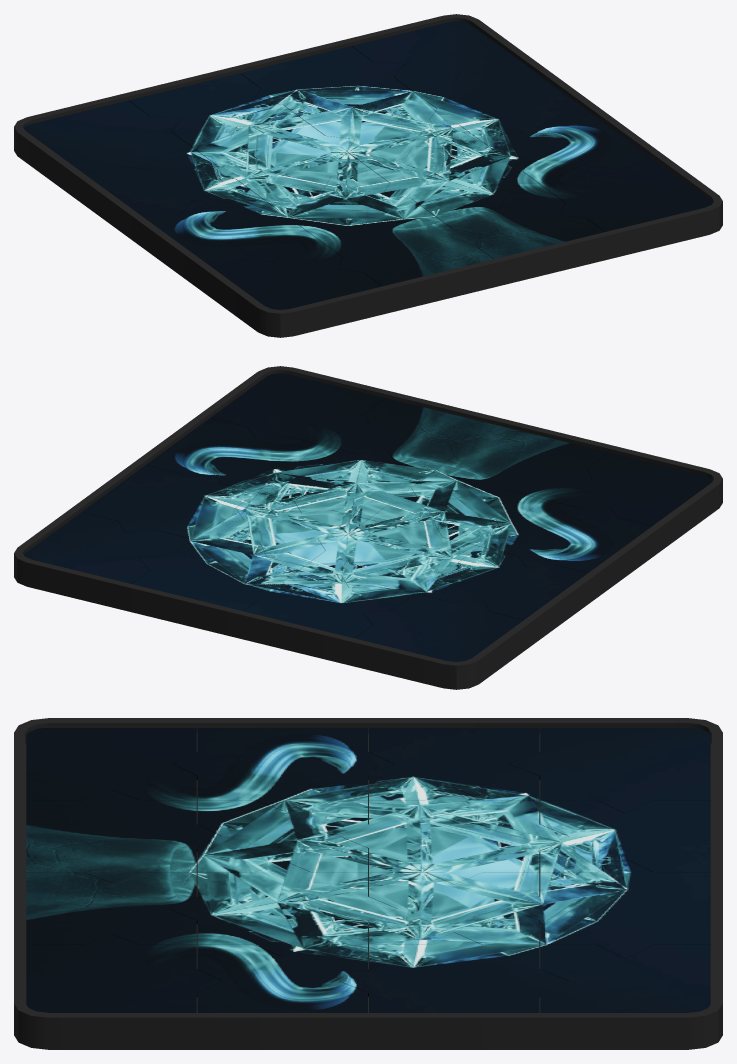
Rendered from puzzle.fbx.
The picture shows the model from 3 angles, top to bottom: view 1: azimuth 30°, elevation 25°; view 2: azimuth 150°, elevation 25°; view 3: azimuth 270°, elevation 25°; orthographic projection. The views are drawn at different scales.
Parts seen in each view (by area): view 1: PuzzleBoard, PuzzlePiece.011, PuzzlePiece.008, PuzzlePiece.003, PuzzlePiece.004, PuzzlePiece.009, PuzzlePiece.006, PuzzlePiece.017, PuzzlePiece.015, PuzzlePiece.002, PuzzlePiece.014, PuzzlePiece.005 (+5 smaller); view 2: PuzzleBoard, PuzzlePiece.008, PuzzlePiece.011, PuzzlePiece.004, PuzzlePiece.017, PuzzlePiece.015, PuzzlePiece.003, PuzzlePiece.009, PuzzlePiece.006, PuzzlePiece.016, PuzzlePiece.018, PuzzlePiece.014 (+5 smaller); view 3: PuzzleBoard, PuzzlePiece.008, PuzzlePiece.011, PuzzlePiece.003, PuzzlePiece.009, PuzzlePiece.017, PuzzlePiece.006, PuzzlePiece.004, PuzzlePiece.015, PuzzlePiece.018, PuzzlePiece.016, PuzzlePiece.007 (+5 smaller).
Boxes of the visible parts, box(x1,y1,x2,y2) form: PuzzleBoard: box(14, 14, 722, 337); PuzzlePiece.011: box(369, 140, 543, 214); PuzzlePiece.008: box(193, 120, 367, 194); PuzzlePiece.003: box(240, 46, 414, 120); PuzzlePiece.004: box(416, 66, 590, 140); PuzzlePiece.009: box(149, 194, 320, 267); PuzzlePiece.006: box(24, 100, 191, 173); PuzzlePiece.017: box(322, 214, 493, 286); PuzzlePiece.015: box(544, 160, 712, 231); PuzzlePiece.002: box(351, 21, 526, 93); PuzzlePiece.014: box(480, 113, 654, 187); PuzzlePiece.005: box(128, 73, 303, 147); PuzzleBoard: box(14, 366, 722, 689); PuzzlePiece.008: box(305, 519, 479, 593); PuzzlePiece.011: box(258, 445, 432, 519); PuzzlePiece.004: box(82, 465, 256, 539); PuzzlePiece.017: box(433, 425, 608, 499); PuzzlePiece.015: box(210, 373, 385, 445); PuzzlePiece.003: box(132, 539, 303, 610); PuzzlePiece.009: box(480, 499, 651, 572); PuzzlePiece.006: box(355, 594, 523, 661); PuzzlePiece.016: box(322, 398, 496, 472); PuzzlePiece.018: box(545, 452, 712, 525); PuzzlePiece.014: box(146, 418, 320, 492); PuzzleBoard: box(14, 718, 722, 1049); PuzzlePiece.008: box(340, 788, 567, 884); PuzzlePiece.011: box(169, 860, 396, 956); PuzzlePiece.003: box(507, 858, 710, 958); PuzzlePiece.009: box(173, 728, 392, 810); PuzzlePiece.017: box(26, 790, 220, 882); PuzzlePiece.006: box(509, 728, 710, 813); PuzzlePiece.004: box(339, 932, 568, 1012); PuzzlePiece.015: box(26, 934, 221, 1012); PuzzlePiece.018: box(26, 728, 196, 800); PuzzlePiece.016: box(26, 872, 196, 944); PuzzlePiece.007: box(369, 728, 539, 800).
Bounding box in the file's own units: 200 × 10 × 200.
